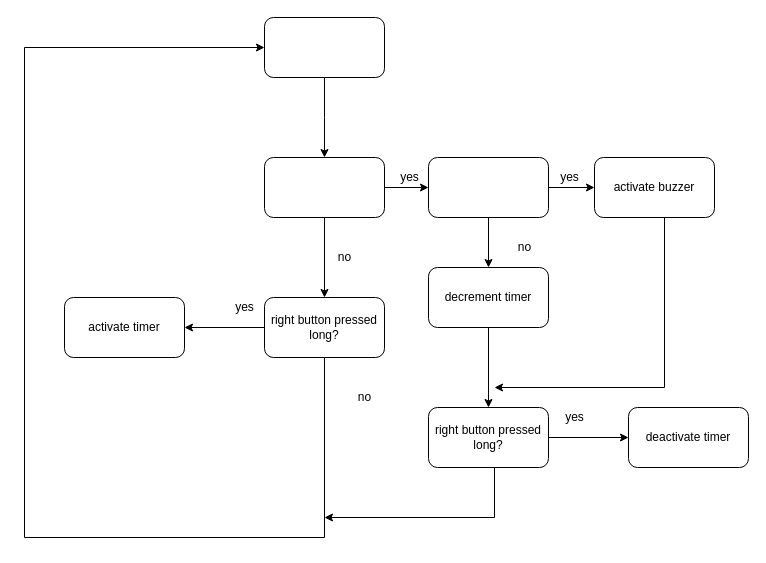
This 766x563 diagram has some shape labels left out. The shapes that lost their labels are listed below. From the top down, each one's box as (x1, y1, x2, y2) in pixels, then its label:
(264, 16, 384, 78): start
(264, 156, 384, 218): timer active?
(428, 156, 548, 218): time = 0
